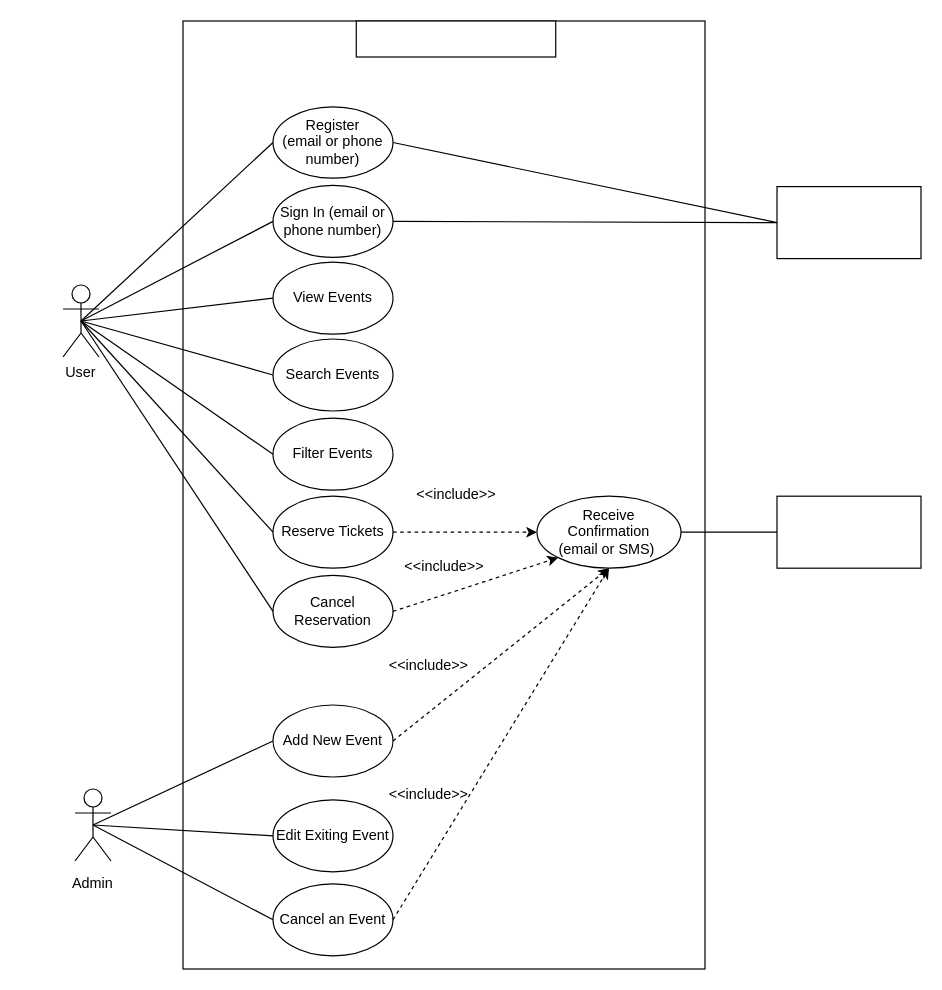
Image size: 942x990. Some labels were removed from this diagram. Here are the shapes that lost their labels. From the top down, the centre of each, then its label:
point 455,38: Ticket Reservation System
point 848,222: Firebase Authentication
point 848,531: Email/SMS Service
